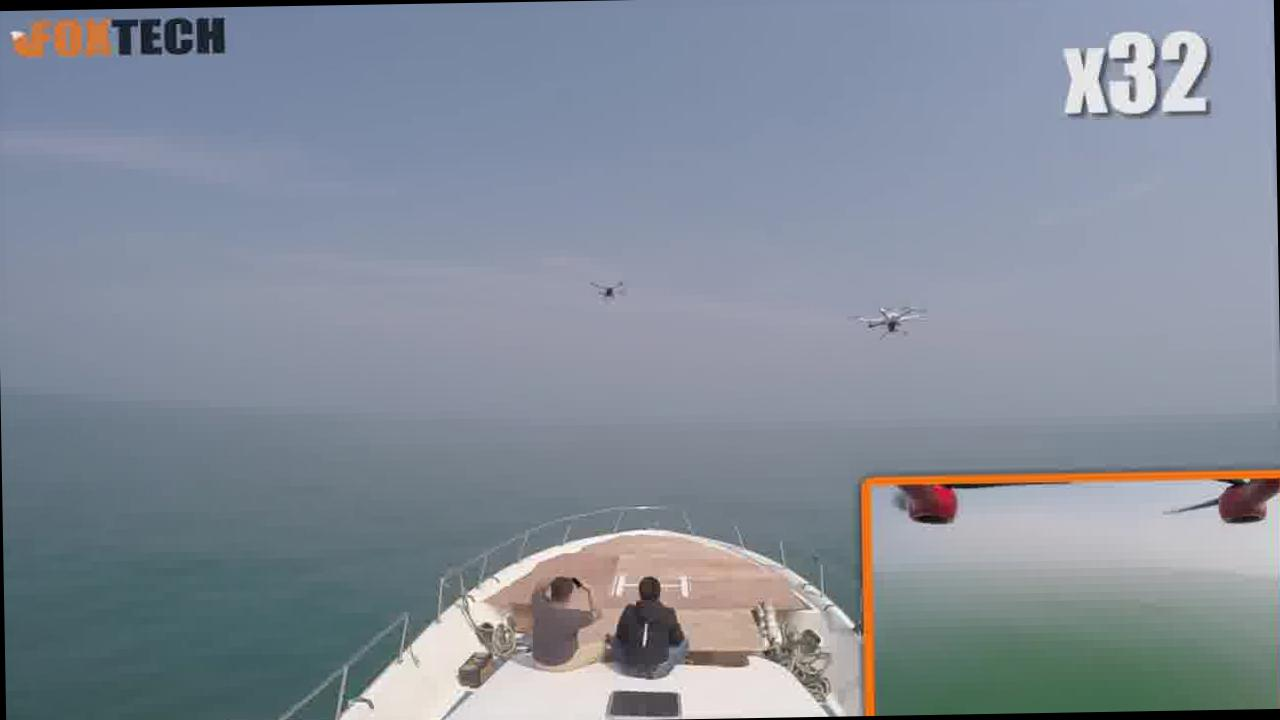drone: (849, 292, 941, 352), (566, 268, 640, 316)
